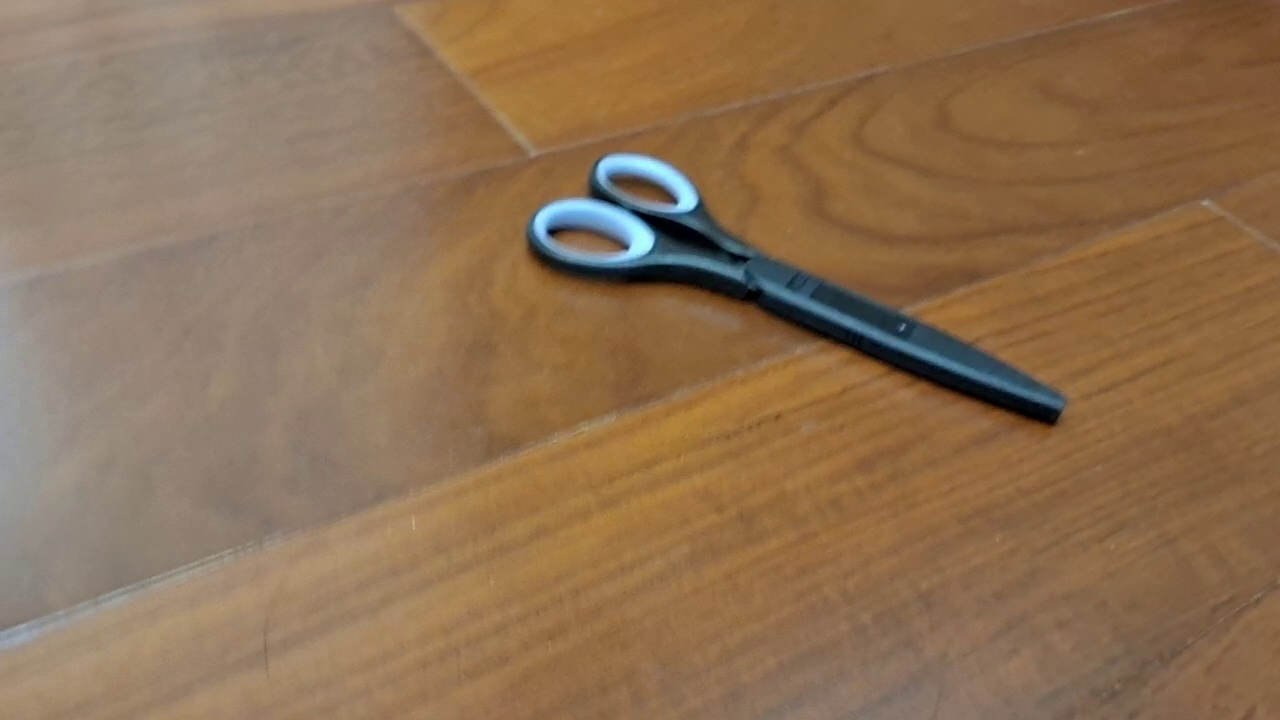scissors: (525, 150, 1071, 429)
